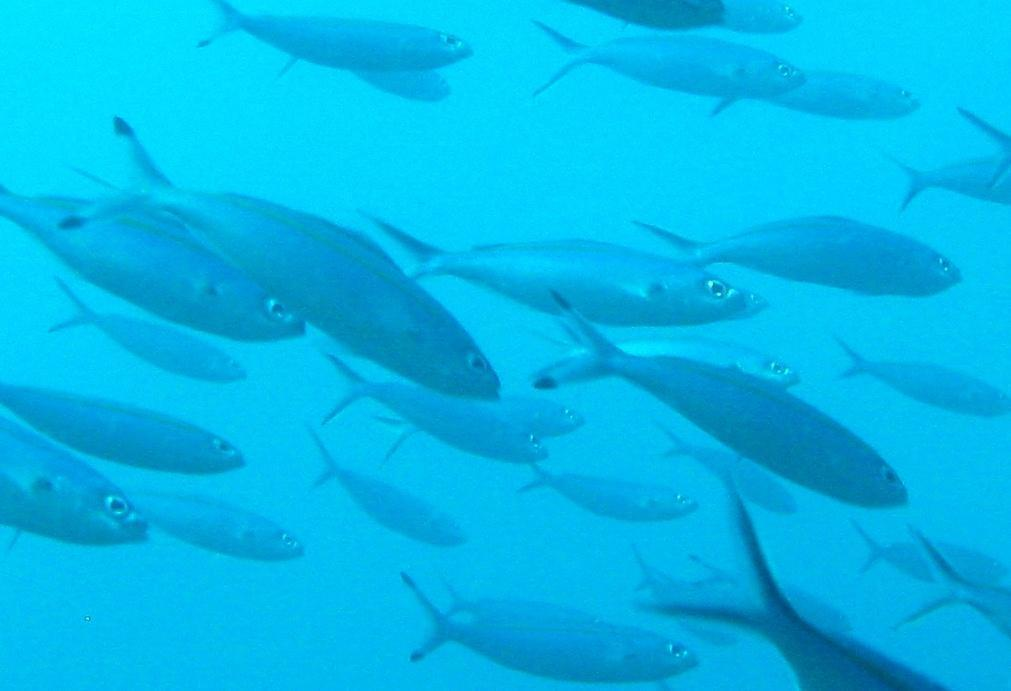Fish: (58, 88, 508, 438), (535, 284, 927, 534)
